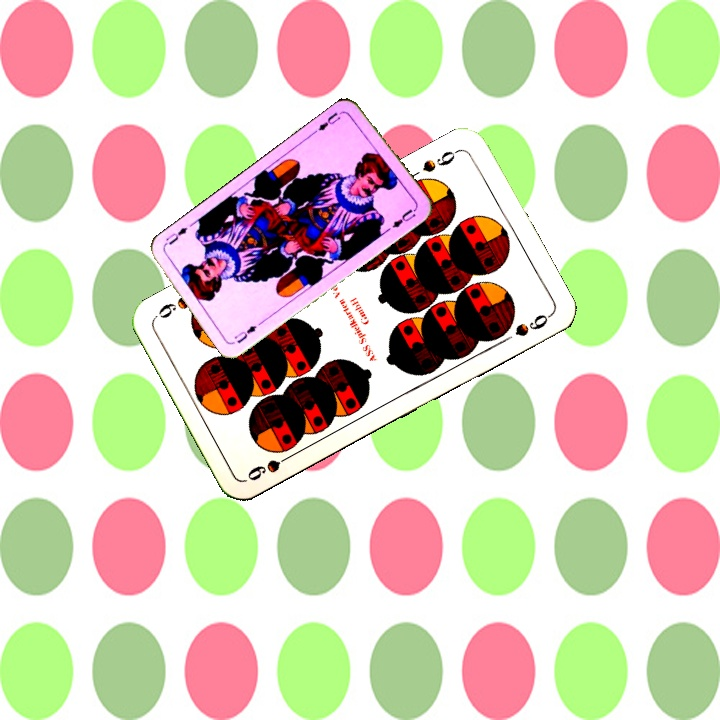EU: (310, 108, 346, 136), (230, 321, 259, 346)
S9: (243, 448, 298, 484), (418, 145, 462, 175)
